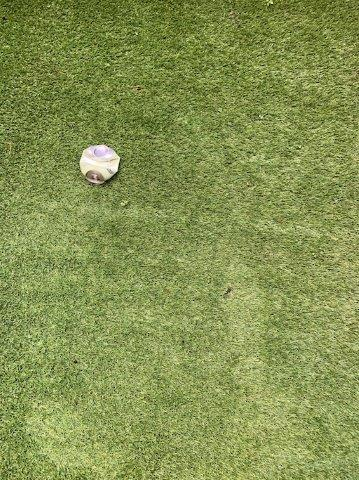kaleng: (80, 146, 119, 182)
